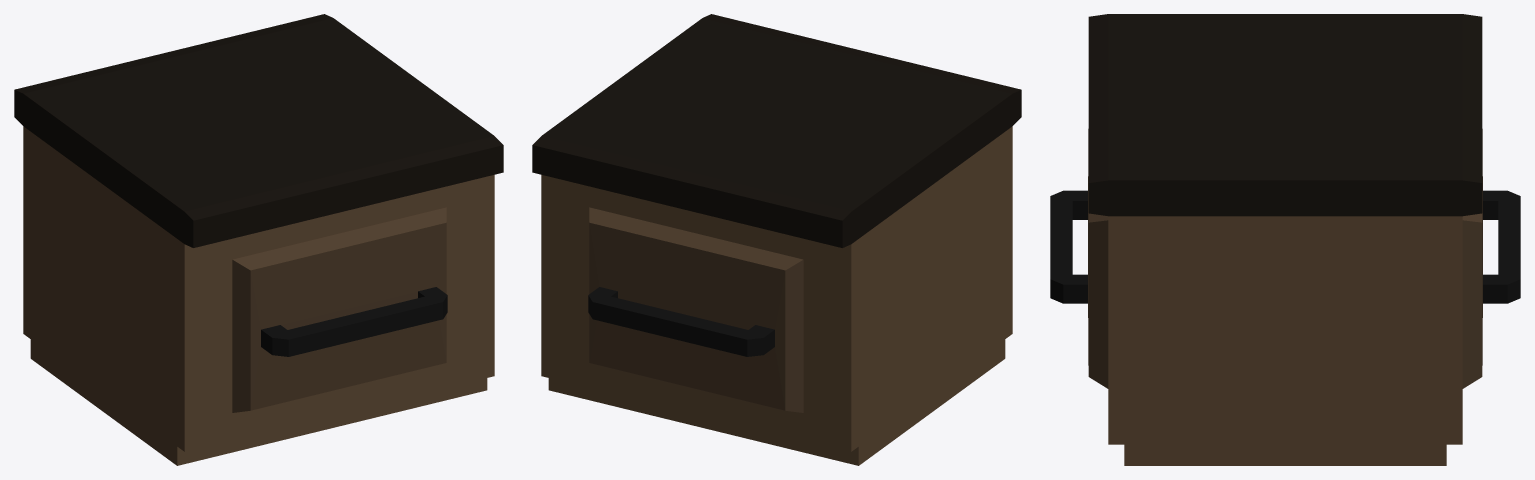
Rendered from Counter_small.fbx.
3 views of the same model, side by side, from view 1: azimuth 30°, elevation 25°; view 2: azimuth 150°, elevation 25°; view 3: azimuth 270°, elevation 25° (orthographic). The views are drawn at different scales.
Parts seen in each view (by area): view 1: Counter.002; view 2: Counter.002; view 3: Counter.002.
Part boxes in pixels (x1=…): Counter.002: x1=14, y1=14, x2=503, y2=465; Counter.002: x1=532, y1=14, x2=1021, y2=465; Counter.002: x1=1050, y1=14, x2=1520, y2=465.
Size of the model in its own units: 100 by 80 by 119.
